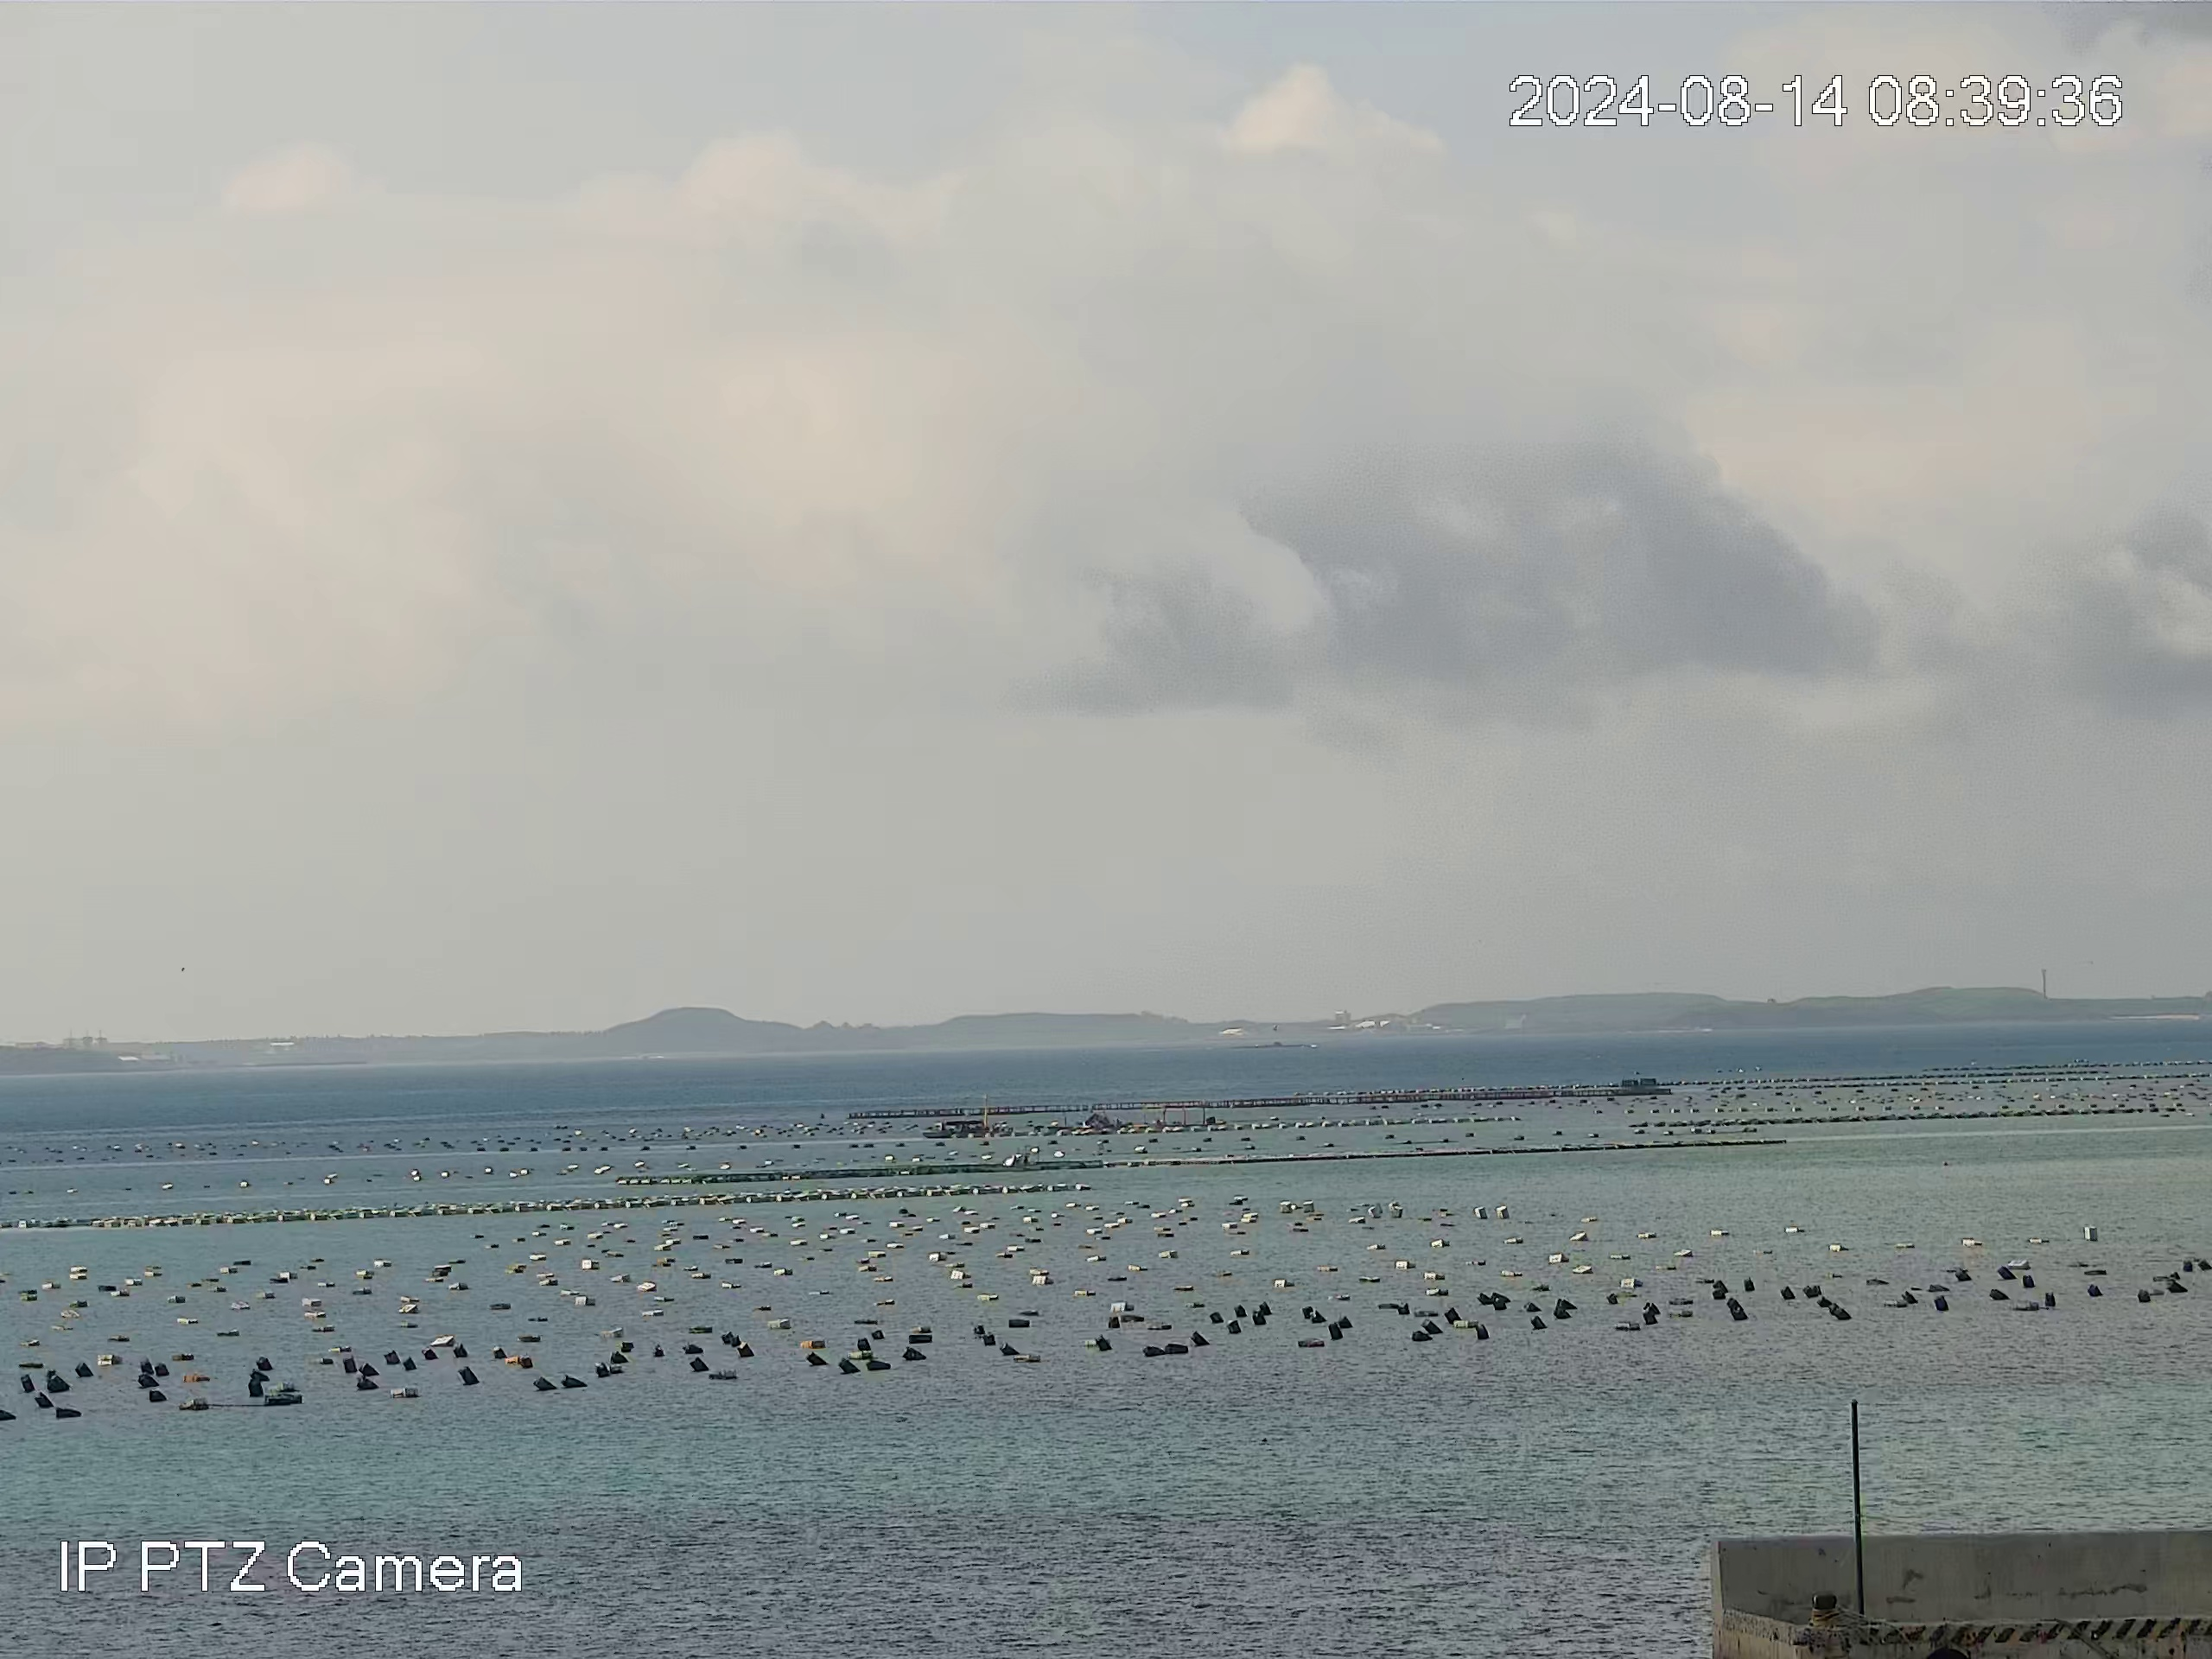boat: (918, 1121, 988, 1140)
